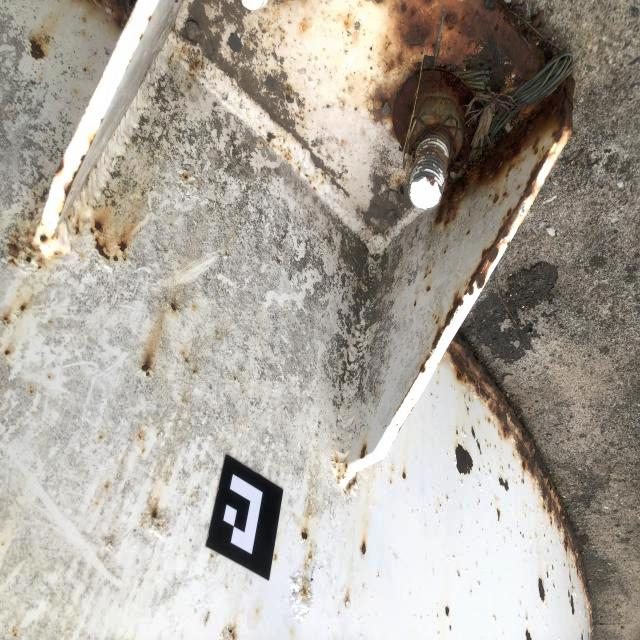Corrosion: (362, 0, 576, 297), (445, 331, 593, 640), (396, 291, 465, 412), (58, 133, 97, 217), (78, 0, 138, 39), (6, 215, 44, 266), (294, 550, 314, 621), (90, 217, 111, 260), (415, 146, 446, 169), (454, 443, 474, 476), (335, 457, 350, 485), (29, 37, 46, 61), (344, 472, 358, 492), (117, 240, 129, 262), (53, 155, 65, 177), (141, 354, 152, 377), (39, 231, 59, 243), (221, 627, 237, 640), (498, 476, 510, 492), (538, 576, 545, 602), (499, 191, 510, 205), (300, 528, 310, 542), (425, 177, 437, 188), (569, 594, 575, 616), (359, 444, 367, 460), (190, 59, 200, 71), (37, 257, 46, 270), (74, 217, 80, 236), (476, 438, 482, 456), (360, 541, 367, 556), (151, 506, 159, 519), (2, 314, 11, 325), (524, 629, 532, 640), (492, 193, 499, 205), (204, 611, 210, 624), (423, 270, 431, 279), (344, 595, 350, 607), (471, 426, 476, 440), (53, 251, 61, 258), (445, 606, 450, 617), (20, 303, 26, 312), (496, 509, 500, 522), (435, 315, 440, 325), (402, 470, 407, 480), (182, 174, 189, 181), (4, 349, 11, 356), (171, 303, 177, 311), (113, 254, 119, 262), (169, 52, 174, 61), (425, 285, 431, 292), (67, 214, 72, 222), (466, 229, 471, 236), (413, 298, 417, 306), (273, 554, 277, 561), (138, 433, 142, 440), (148, 15, 152, 22), (139, 34, 143, 41), (100, 118, 104, 125), (569, 570, 571, 583), (517, 184, 521, 190), (185, 358, 189, 364), (457, 572, 461, 578), (581, 633, 584, 640), (157, 524, 164, 527), (446, 496, 449, 503), (523, 534, 526, 541), (210, 554, 214, 559), (104, 485, 109, 489), (98, 435, 103, 439), (141, 448, 145, 453), (568, 589, 570, 598), (572, 584, 574, 593), (547, 571, 549, 579), (193, 370, 197, 374), (434, 315, 437, 320), (389, 479, 392, 484), (187, 85, 190, 90), (467, 408, 470, 413), (469, 398, 472, 403), (443, 250, 446, 254), (553, 582, 555, 588), (552, 564, 554, 570), (225, 251, 228, 255), (86, 202, 89, 206), (30, 390, 33, 394), (47, 375, 50, 379), (13, 633, 16, 637), (83, 68, 86, 72), (564, 562, 566, 567), (488, 418, 490, 423), (234, 377, 236, 381), (338, 611, 340, 614), (30, 387, 31, 389)
